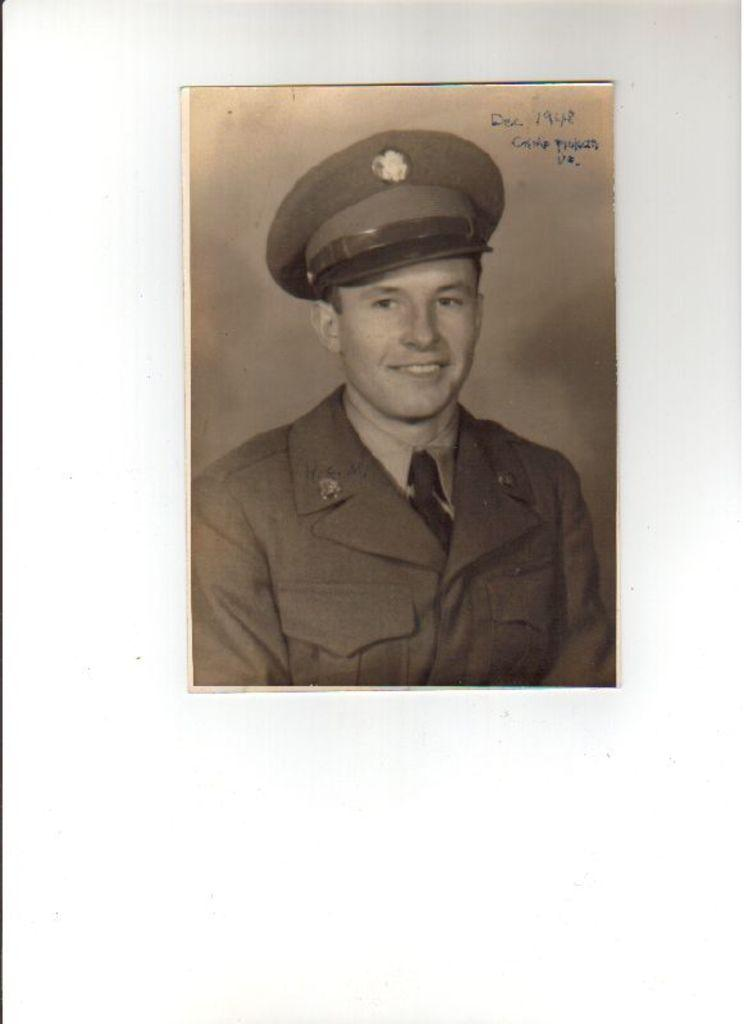Hat: (267, 132, 500, 304)
